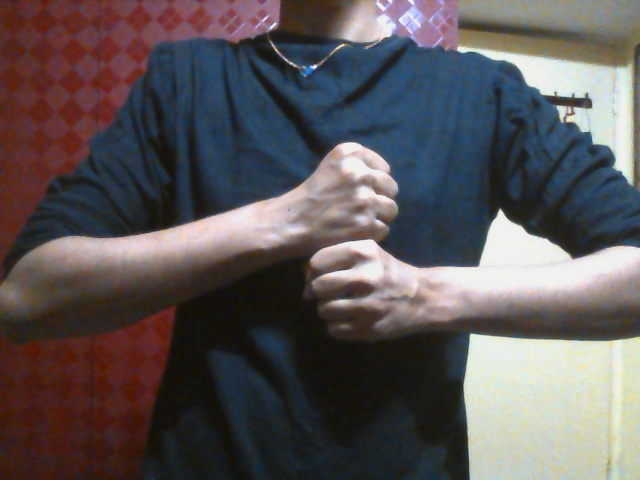G: (298, 141, 420, 344)
